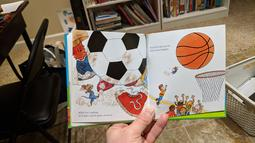text block: (77, 109, 112, 119), (147, 42, 172, 55)
